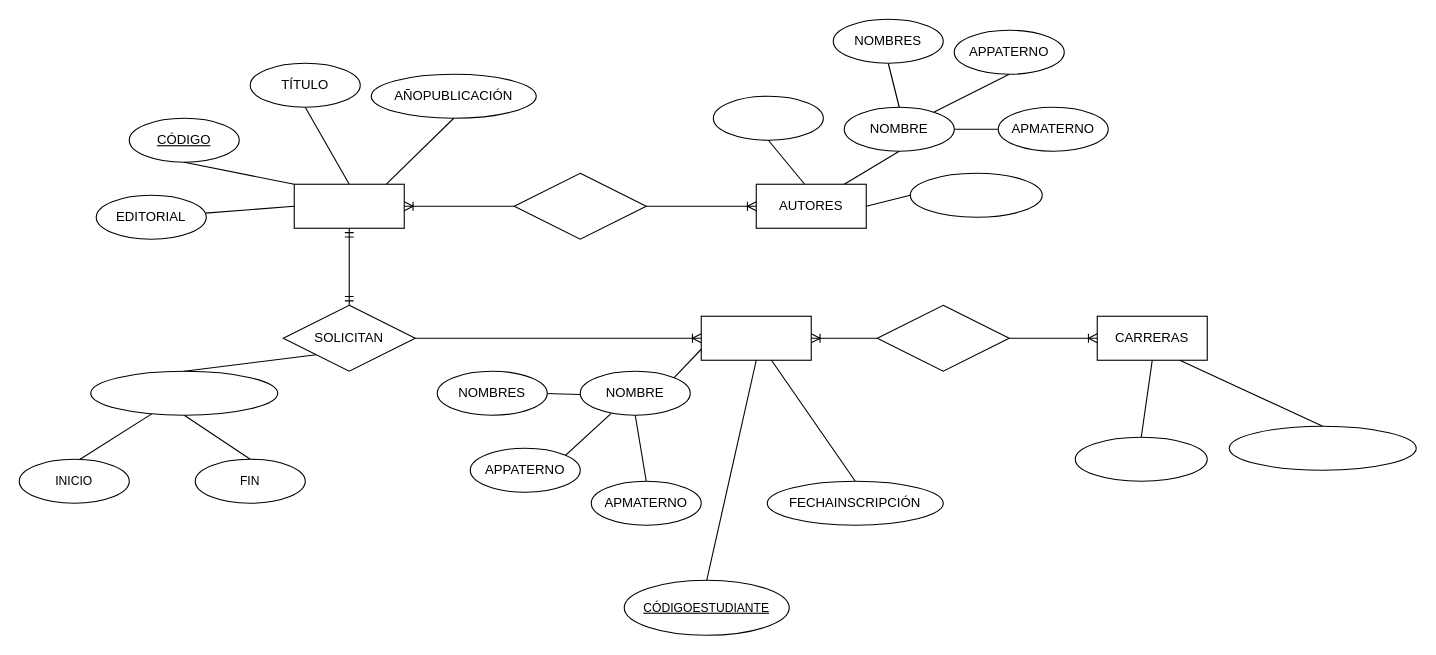
The diagram is 1436 pixels wide and 655 high, and some of its shapes have lost their labels. The shapes that lost their labels are listed below. From the top down, each one's box as (x1, y1, x2, y2) in pixels, then its label:
(712, 95, 823, 140): NUMAUTOR
(293, 183, 404, 228): LIBROS
(513, 172, 646, 239): TIENEN
(909, 172, 1042, 217): NACIONALIDAD
(700, 315, 811, 360): ESTUDIANTES
(876, 304, 1009, 371): CURSAN
(90, 370, 278, 415): PRESTAMO
(1074, 436, 1207, 481): NUMCARRERA
(1228, 425, 1416, 470): DESCRIPCIÓNCARRERA
